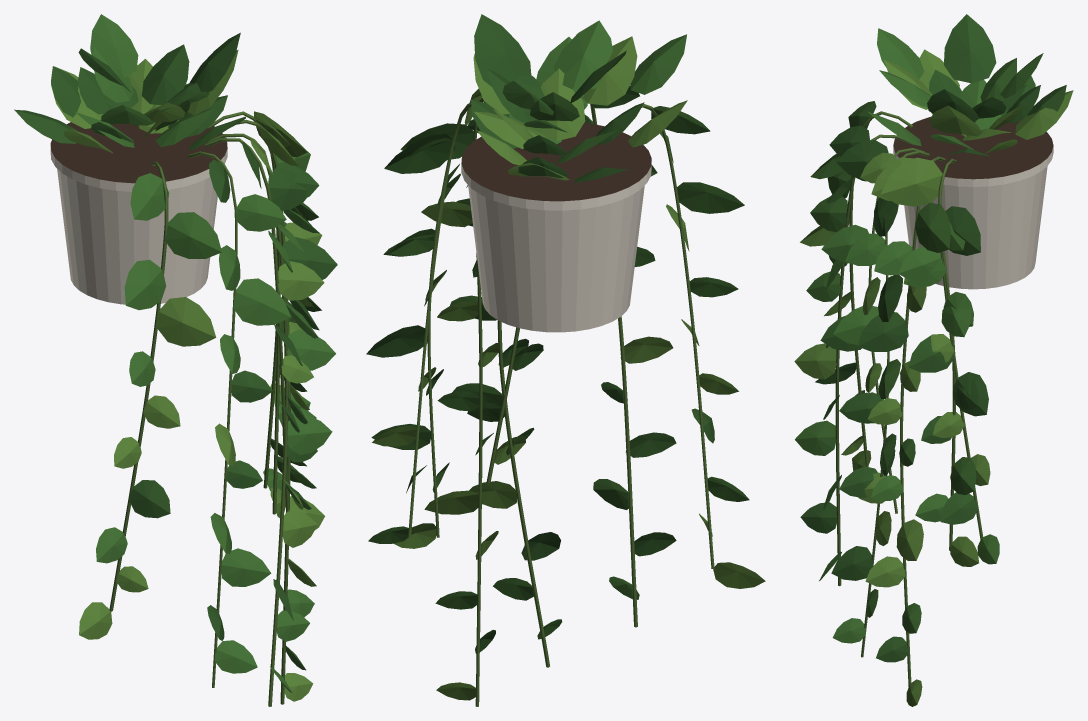
3 views of the same model, side by side, from view 1: azimuth 30°, elevation 25°; view 2: azimuth 150°, elevation 25°; view 3: azimuth 270°, elevation 25° (orthographic). The views are drawn at different scales.
Visible parts, largest first — view 1: leaves, pot, vine_m, vine_m.005, vine_m.004, vine_m.001, vine_m.002, vine_m.006, vine_m.003; view 2: leaves, pot, vine_m.002, vine_m.005, vine_m, vine_m.003, vine_m.004, vine_m.006, vine_m.001; view 3: leaves, pot, vine_m.004, vine_m.002, vine_m.005, vine_m.003, vine_m.006, vine_m.
Boxes of the visible parts, x1=… form: leaves: x1=14, y1=14, x2=337, y2=701; pot: x1=50, y1=122, x2=227, y2=304; vine_m: x1=207, y1=133, x2=288, y2=706; vine_m.005: x1=109, y1=161, x2=168, y2=611; vine_m.004: x1=188, y1=151, x2=237, y2=687; vine_m.001: x1=205, y1=138, x2=288, y2=507; vine_m.002: x1=237, y1=119, x2=290, y2=704; vine_m.006: x1=208, y1=111, x2=280, y2=488; vine_m.003: x1=250, y1=115, x2=280, y2=514; leaves: x1=366, y1=14, x2=765, y2=700; pot: x1=461, y1=122, x2=651, y2=332; vine_m.002: x1=473, y1=98, x2=483, y2=706; vine_m.005: x1=641, y1=104, x2=714, y2=568; vine_m: x1=497, y1=320, x2=549, y2=667; vine_m.003: x1=427, y1=103, x2=471, y2=537; vine_m.004: x1=590, y1=105, x2=637, y2=627; vine_m.006: x1=408, y1=105, x2=471, y2=537; vine_m.001: x1=486, y1=327, x2=519, y2=483; leaves: x1=794, y1=14, x2=1073, y2=706; pot: x1=893, y1=117, x2=1053, y2=289; vine_m.004: x1=835, y1=134, x2=910, y2=586; vine_m.002: x1=900, y1=156, x2=945, y2=686; vine_m.005: x1=849, y1=111, x2=912, y2=466; vine_m.003: x1=938, y1=158, x2=956, y2=550; vine_m.006: x1=938, y1=160, x2=983, y2=539; vine_m: x1=861, y1=150, x2=929, y2=657.
Size of the model in its own units: 0.2885 by 0.6209 by 0.258.
